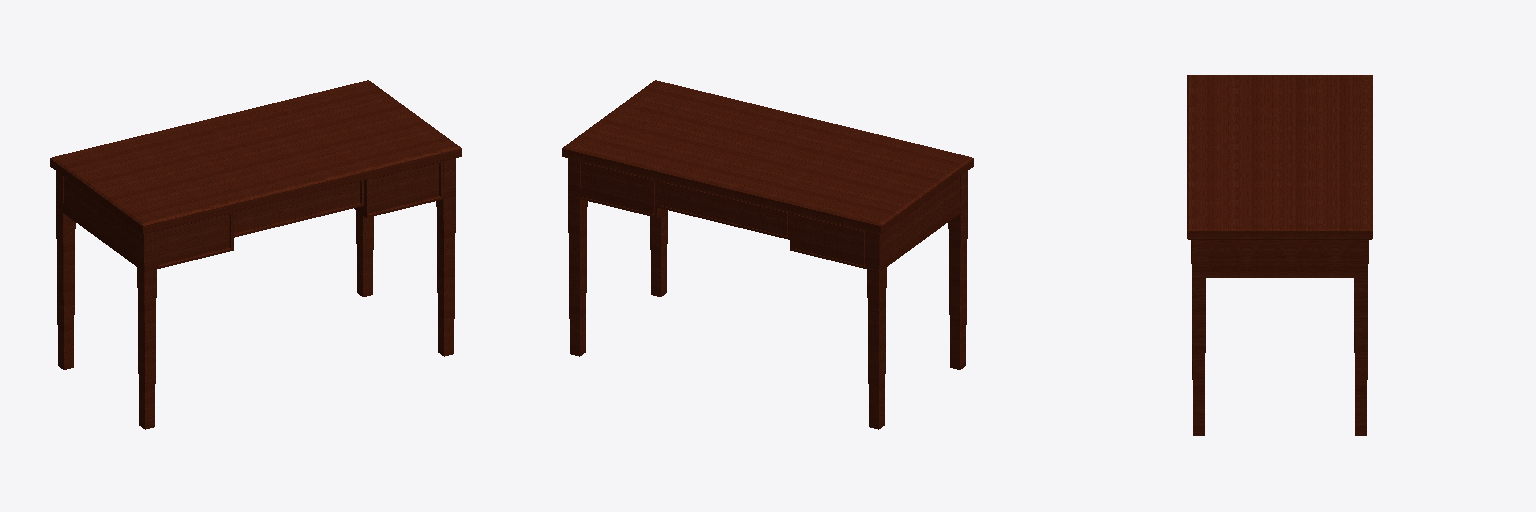
3 renders of one model, left to right at view 1: azimuth 30°, elevation 25°; view 2: azimuth 150°, elevation 25°; view 3: azimuth 270°, elevation 25°, orthographic.
Visible parts, largest first — view 1: Rectangle01, ChamferBox04, Rectangle03, ChamferBox01, ChamferBox03, Rectangle06, Rectangle05, Rectangle07, ChamferBox02, Rectangle02, Rectangle04; view 2: Rectangle01, ChamferBox03, ChamferBox02, Rectangle03, Rectangle06, ChamferBox04, Rectangle05, Rectangle07, ChamferBox01, Rectangle04; view 3: Rectangle01, Rectangle02, ChamferBox02, ChamferBox01.
Part boxes in pixels (x1,y1,x2,y2): Rectangle01: (50, 80, 461, 233); ChamferBox04: (137, 230, 156, 429); Rectangle03: (63, 177, 233, 268); ChamferBox01: (436, 158, 455, 356); ChamferBox03: (56, 171, 75, 369); Rectangle06: (234, 182, 359, 232); Rectangle05: (159, 214, 229, 264); Rectangle07: (369, 163, 438, 212); ChamferBox02: (356, 211, 373, 296); Rectangle02: (354, 161, 443, 217); Rectangle04: (234, 181, 363, 237); Rectangle01: (562, 80, 973, 233); ChamferBox03: (867, 230, 886, 429); ChamferBox02: (568, 158, 587, 356); Rectangle03: (790, 177, 960, 268); Rectangle06: (660, 181, 787, 236); ChamferBox04: (948, 171, 967, 369); Rectangle05: (793, 214, 864, 265); Rectangle07: (583, 163, 654, 214); ChamferBox01: (650, 211, 667, 296); Rectangle04: (657, 180, 789, 239); Rectangle01: (1187, 75, 1372, 239); Rectangle02: (1206, 240, 1353, 277); ChamferBox02: (1354, 240, 1368, 435); ChamferBox01: (1191, 240, 1205, 435).
Bounding box in the file's own units: 4179 × 2607 × 2106.
1 materials, 1 textured.